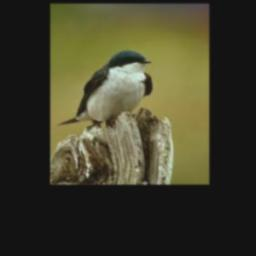Swallow: (58, 50, 152, 127)
